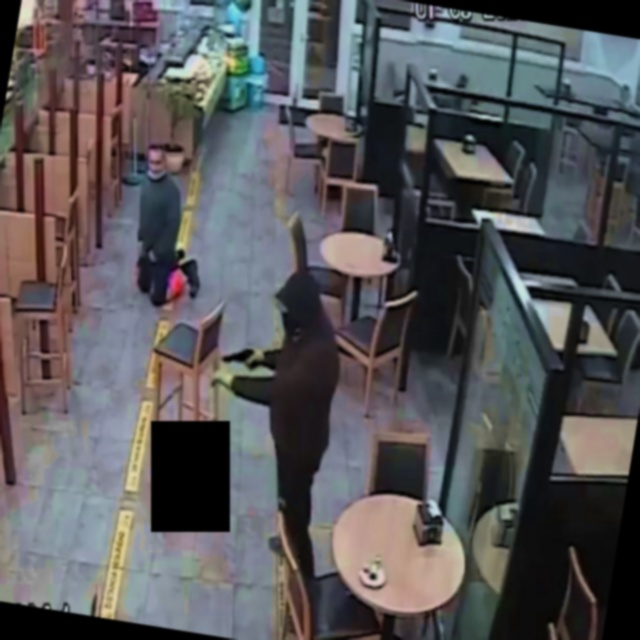gun: (202, 322, 276, 390)
